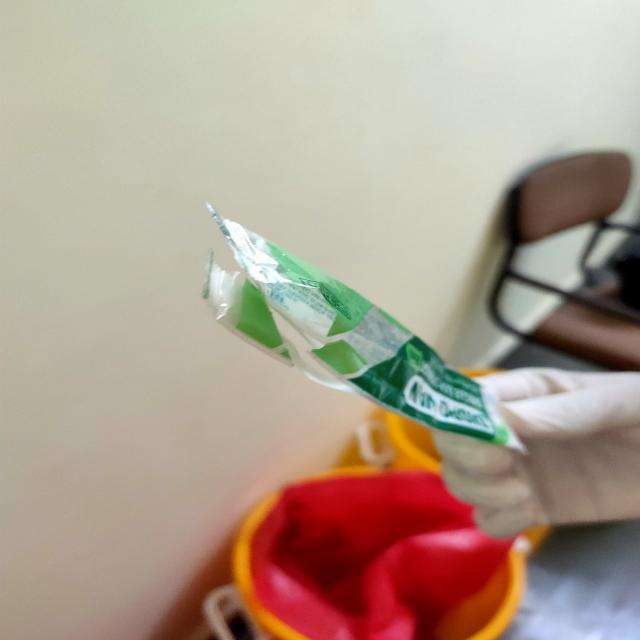B3: (169, 197, 525, 461)
